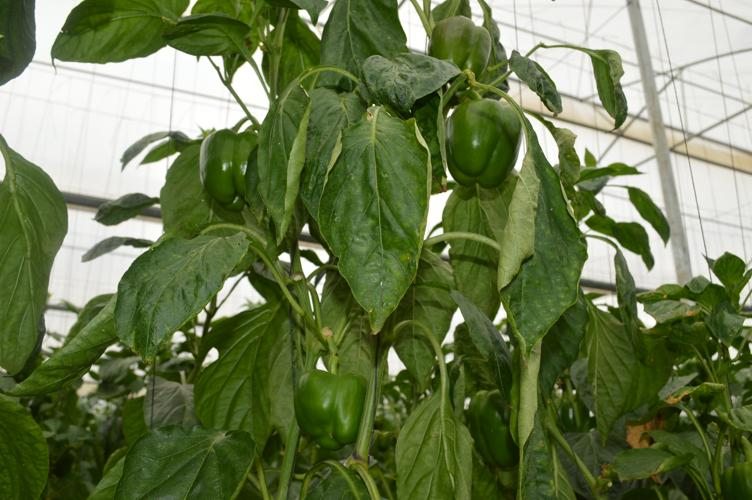BellPepper: (438, 89, 528, 199), (287, 361, 375, 455), (193, 124, 272, 213), (421, 10, 494, 85)
